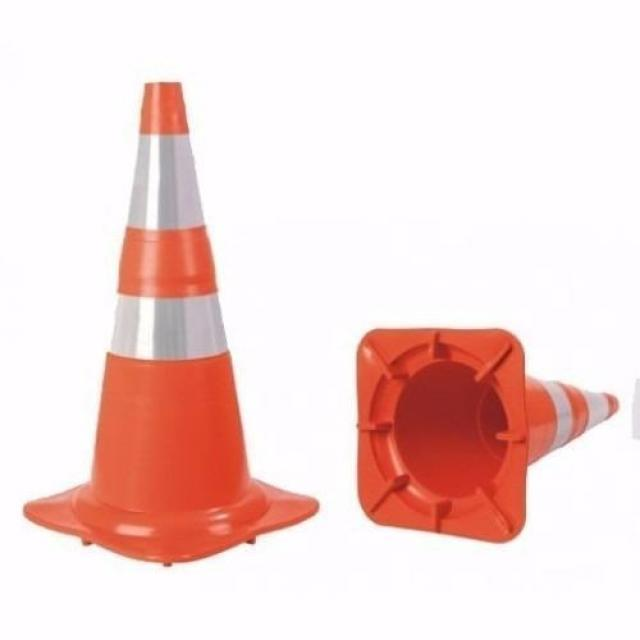traffic cone: (355, 327, 620, 545)
traffic light: (355, 327, 620, 545)
